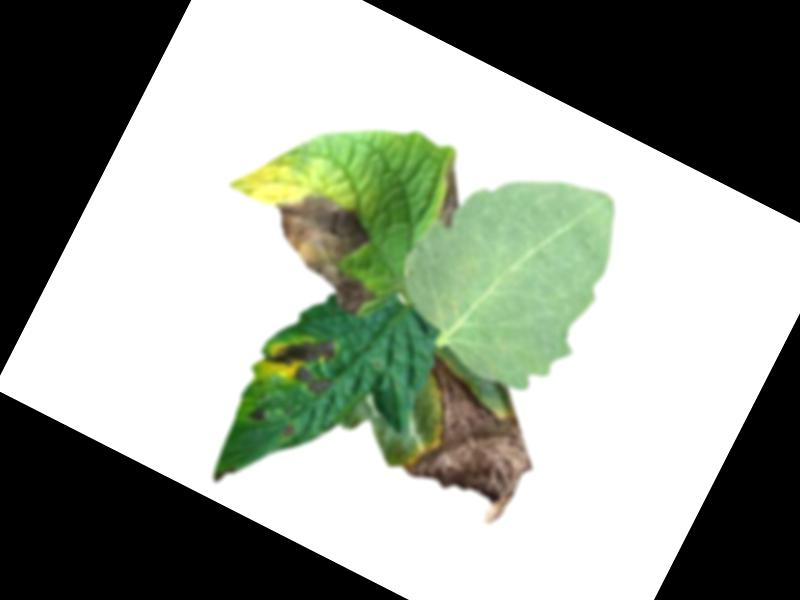Early_blight: (375, 351, 559, 531), (247, 175, 408, 323), (260, 316, 348, 398), (424, 163, 474, 229), (209, 460, 236, 488), (245, 400, 269, 424), (281, 422, 295, 437)
healthy: (369, 123, 644, 409)
